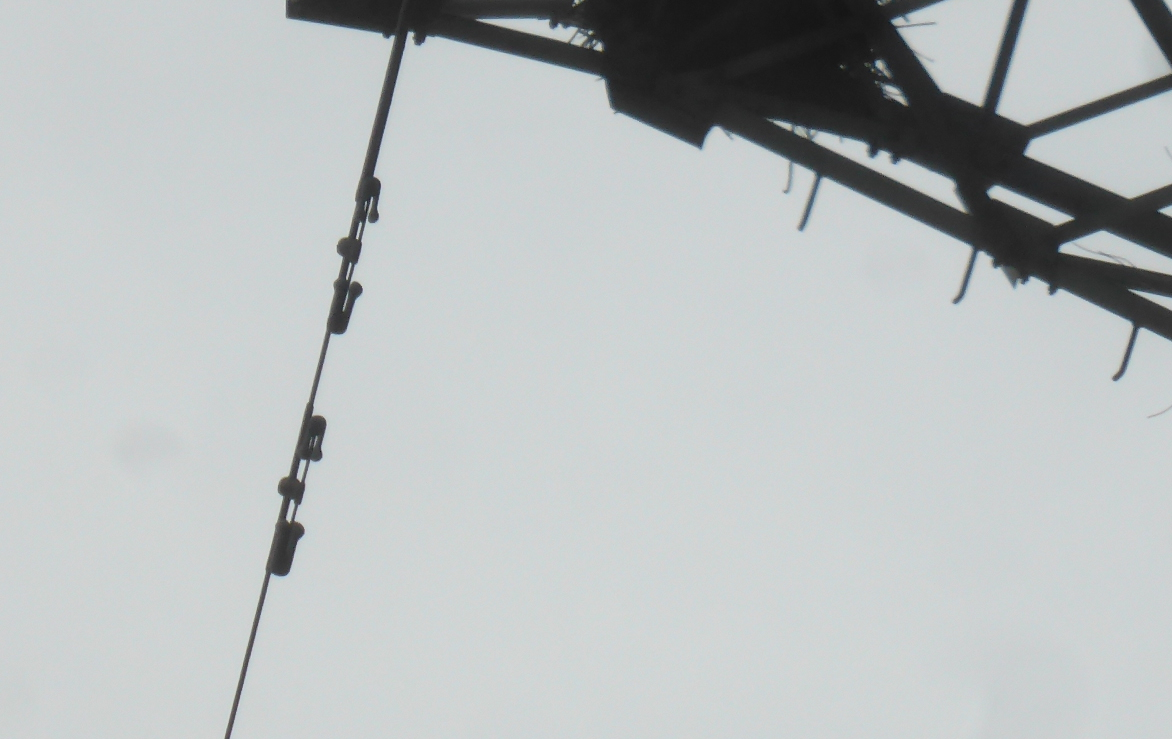damper: (261, 411, 331, 580), (322, 167, 383, 343)
